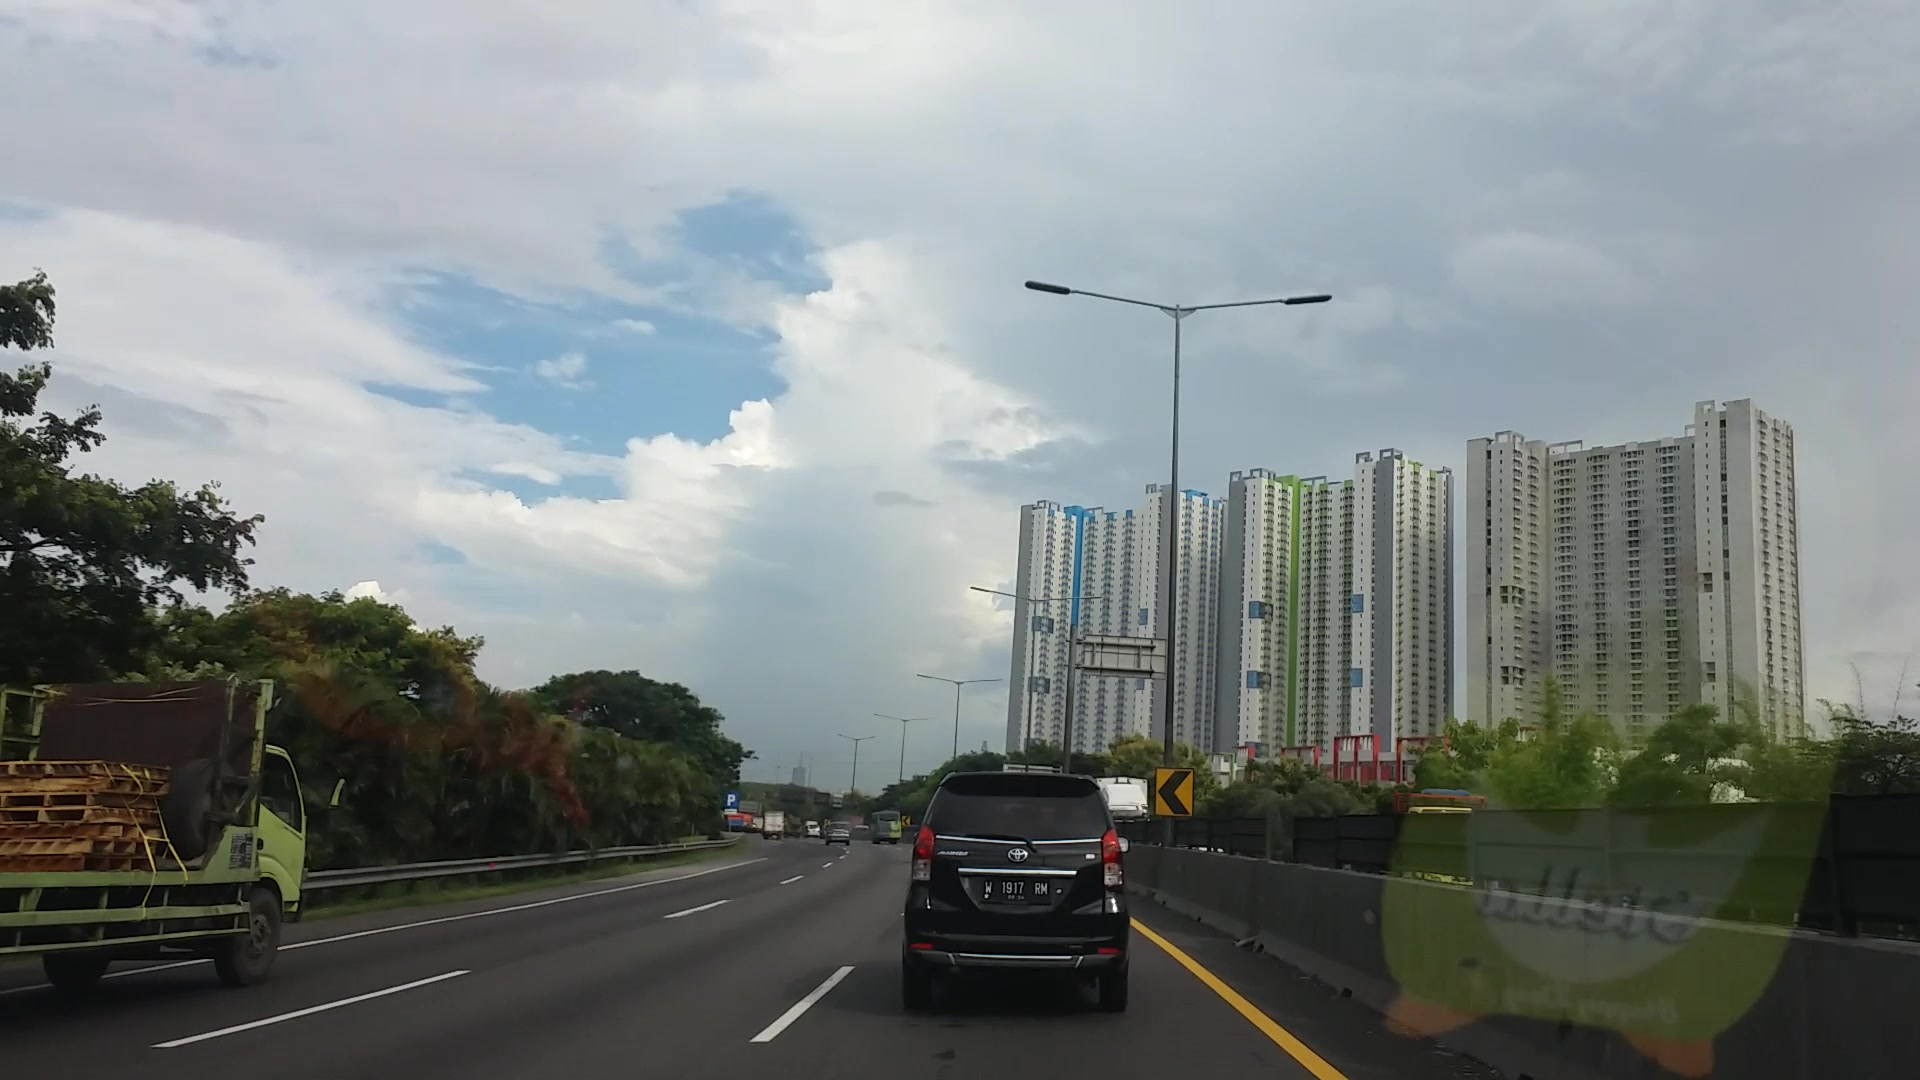plate_positive: (980, 878, 1051, 902)
